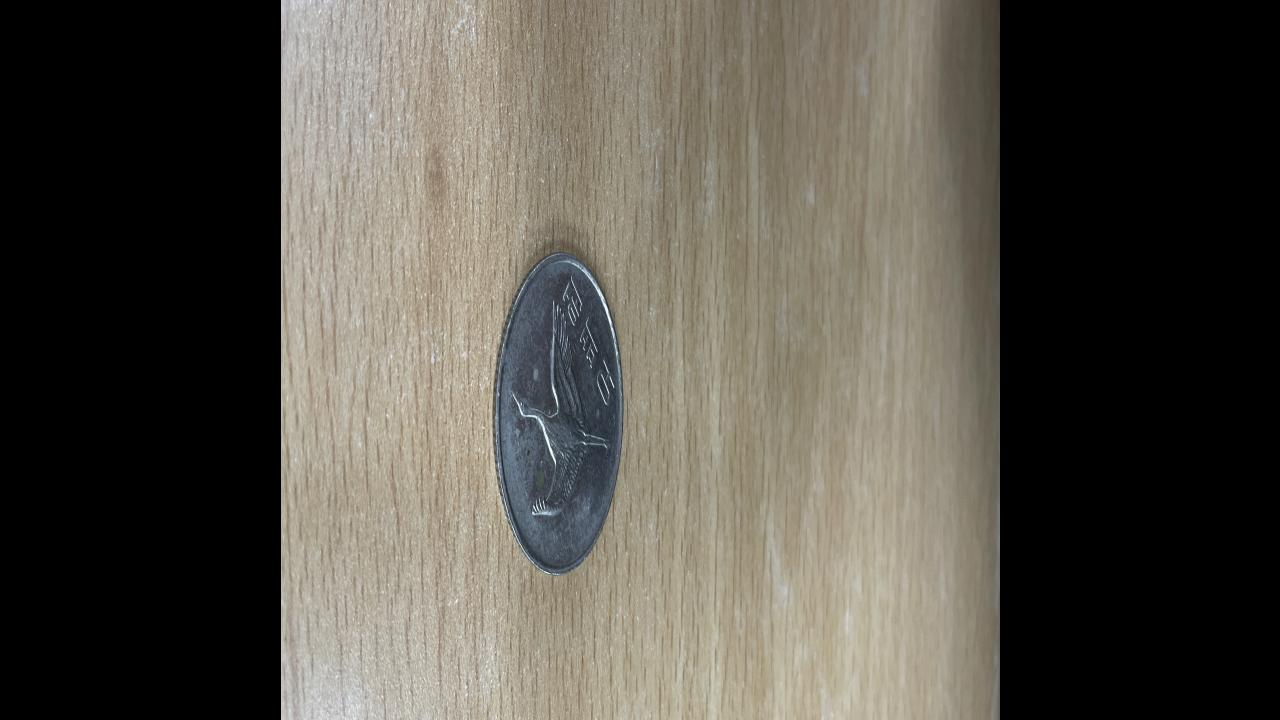coin: (493, 245, 625, 577)
